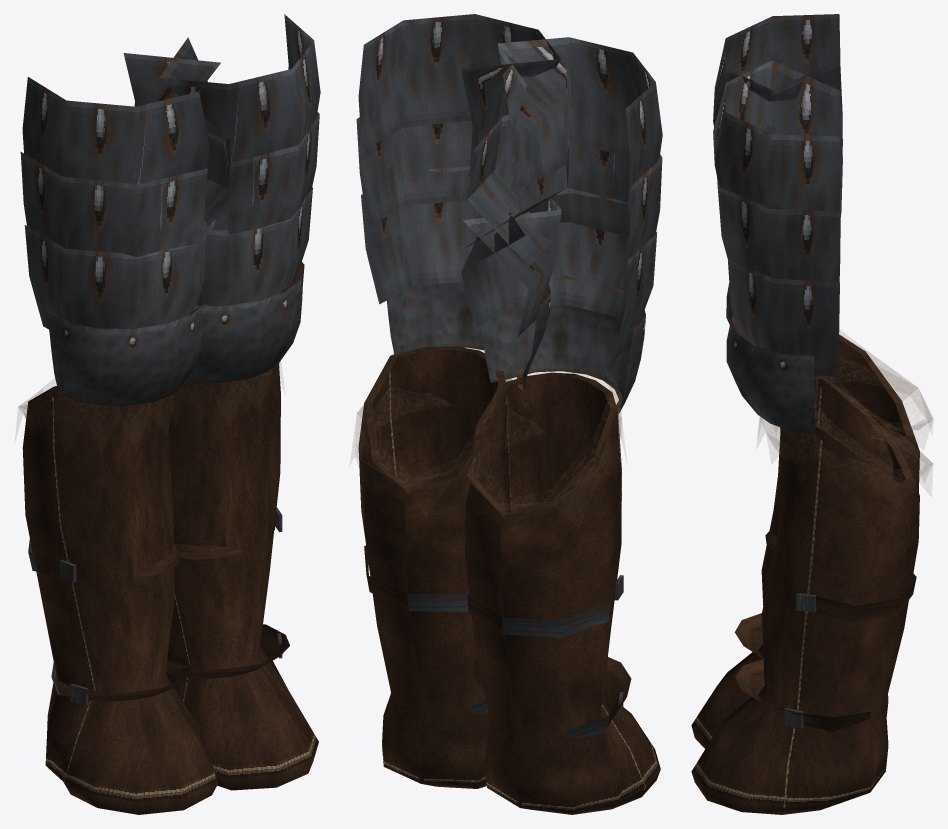
File: bottes_fer.glb
The picture shows the model from 3 angles, left to right: view 1: azimuth 30°, elevation 25°; view 2: azimuth 150°, elevation 25°; view 3: azimuth 270°, elevation 25°; orthographic projection. The views are drawn at different scales.
Visible parts, largest first — view 1: bottes_fer.001; view 2: bottes_fer.001; view 3: bottes_fer.001.
Boxes of the visible parts, x1=… form: bottes_fer.001: x1=18, y1=14, x2=320, y2=814; bottes_fer.001: x1=354, y1=14, x2=662, y2=814; bottes_fer.001: x1=691, y1=14, x2=932, y2=814.
Bounding box in the file's own units: 0.2703 × 0.6704 × 0.2148.
Materials: 3 (3 with a texture image).
